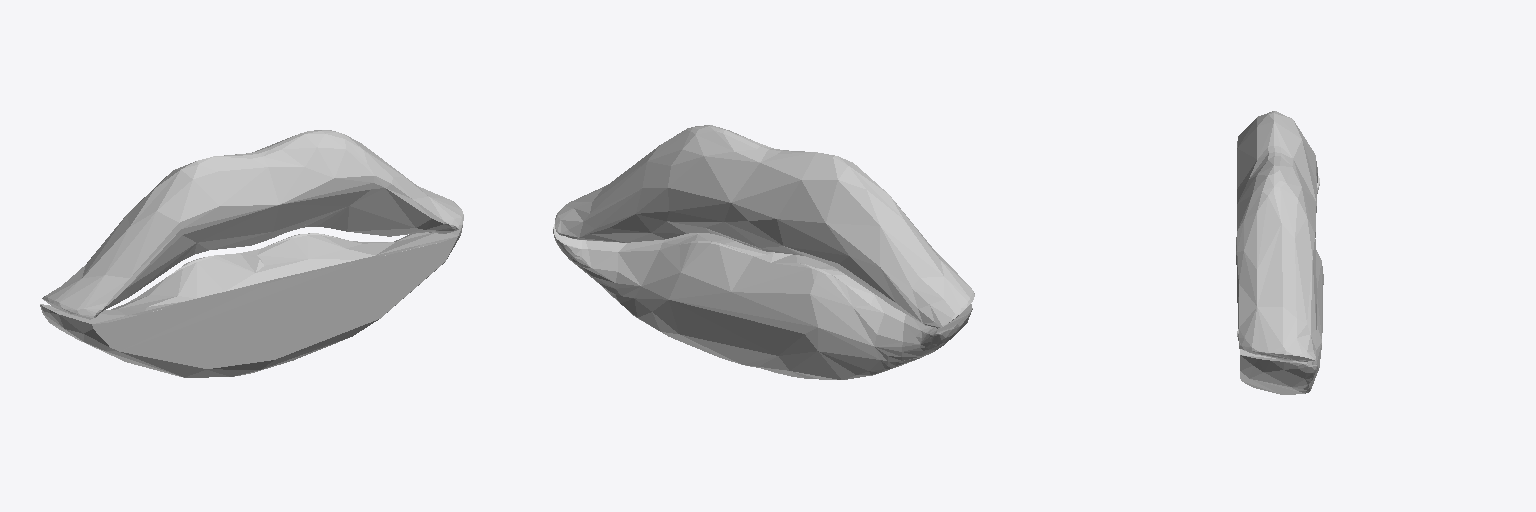
File: bonusH1.obj
The picture shows the model from 3 angles: view 1: azimuth 30°, elevation 25°; view 2: azimuth 150°, elevation 25°; view 3: azimuth 270°, elevation 25°; orthographic projection.
Size of the model in its own units: 33.08 by 17.53 by 6.18.